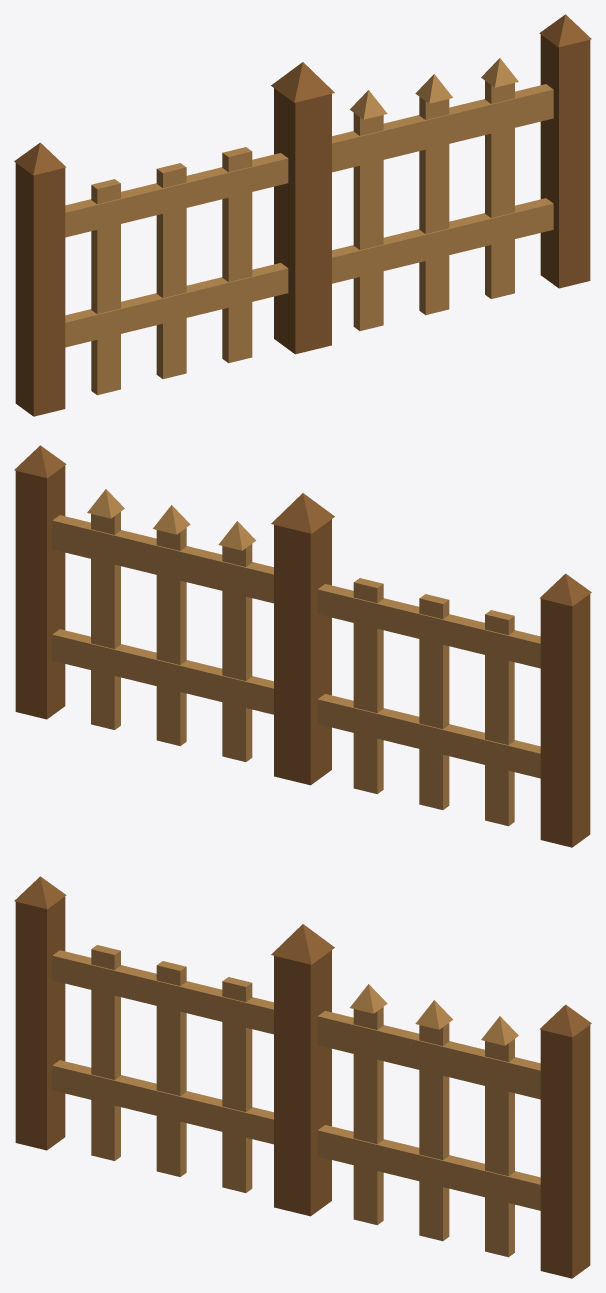
The model's file is picket_fence.glb.
The picture shows the model from 3 angles, top to bottom: view 1: azimuth 30°, elevation 25°; view 2: azimuth 150°, elevation 25°; view 3: azimuth 330°, elevation 25°; orthographic projection.
Visible parts, largest first — view 1: decor-picket_fence, decor-picket_fence-rail, decor-picket_fence-post; view 2: decor-picket_fence, decor-picket_fence-rail, decor-picket_fence-post; view 3: decor-picket_fence, decor-picket_fence-rail, decor-picket_fence-post.
Boxes of the visible parts, left/top/right/bottom form: decor-picket_fence: left=14, top=14, right=591, bottom=416; decor-picket_fence-rail: left=332, top=58, right=553, bottom=330; decor-picket_fence-post: left=271, top=62, right=334, bottom=354; decor-picket_fence: left=14, top=445, right=591, bottom=847; decor-picket_fence-rail: left=52, top=489, right=273, bottom=761; decor-picket_fence-post: left=271, top=493, right=334, bottom=785; decor-picket_fence: left=14, top=876, right=591, bottom=1278; decor-picket_fence-rail: left=317, top=984, right=540, bottom=1257; decor-picket_fence-post: left=271, top=924, right=334, bottom=1216.
Bounding box in the file's own units: 2.13 × 1.02 × 0.1555.
